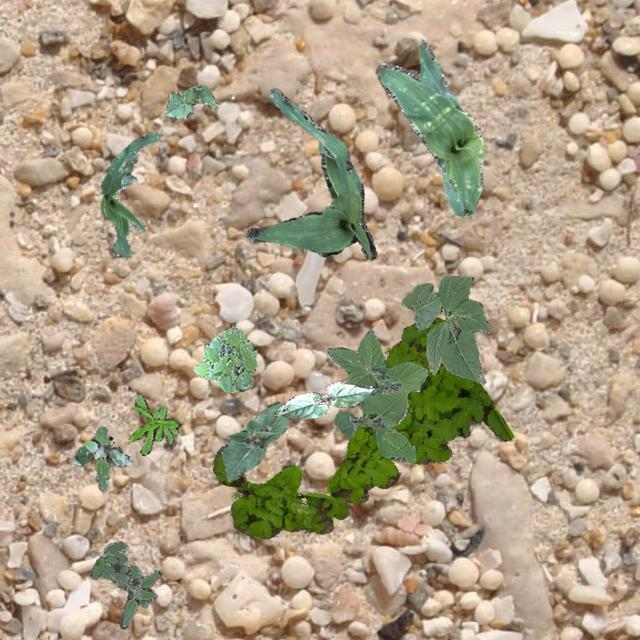crop: (246, 86, 376, 258), (374, 38, 484, 216), (400, 274, 490, 384), (100, 130, 162, 258), (220, 400, 288, 480), (272, 380, 372, 418), (165, 84, 218, 118)
weed: (212, 316, 512, 538), (326, 328, 426, 462), (90, 540, 160, 628), (192, 324, 256, 392), (70, 426, 132, 490), (128, 394, 178, 454)
